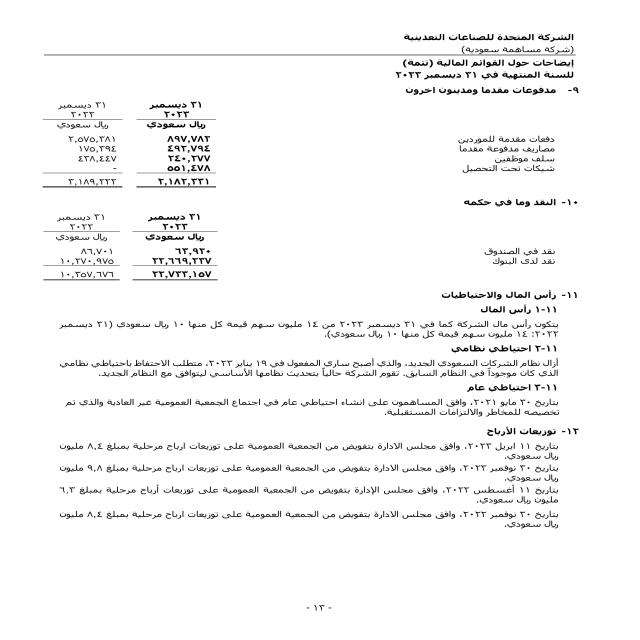notes: (392, 54, 585, 70)
table: (22, 95, 240, 292)
